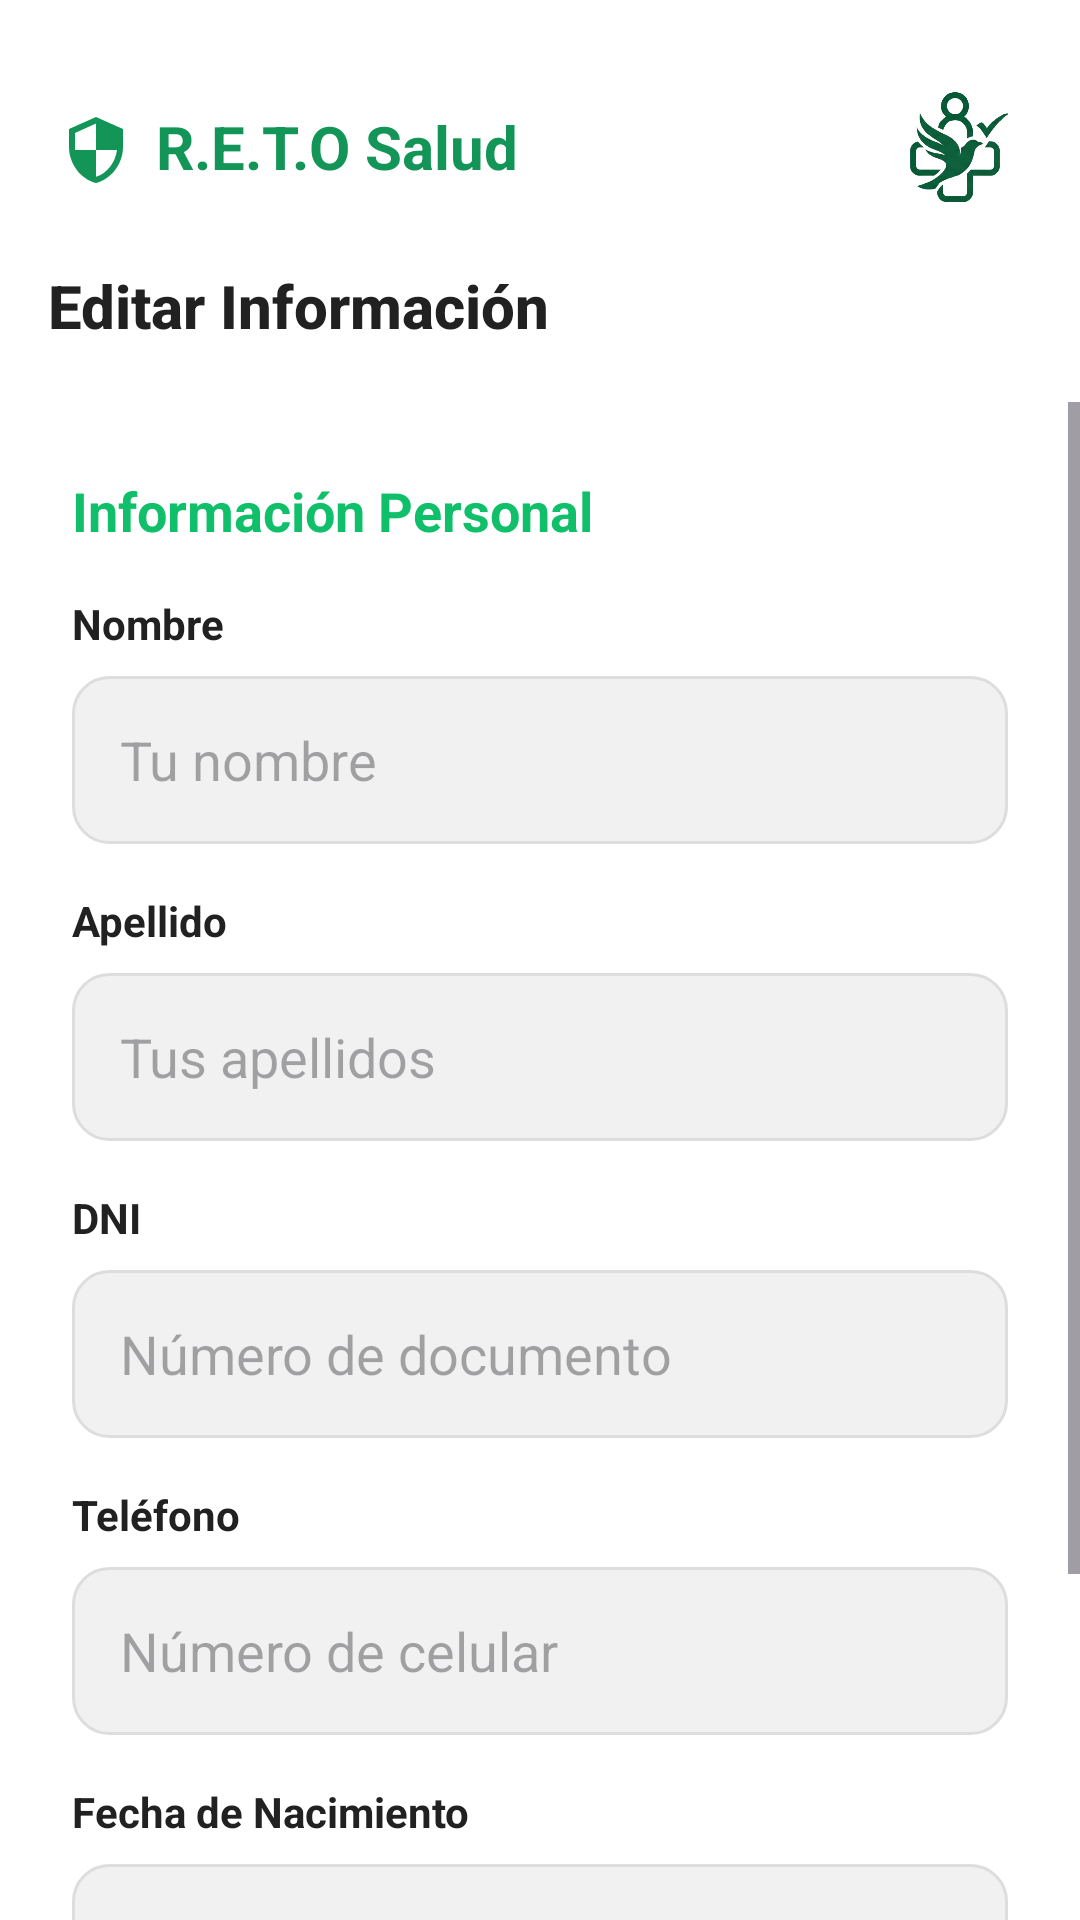

Screen size 1080px x 1920px. Icon name, then its center in pixels as [x,y]:
shield: [96,150]
